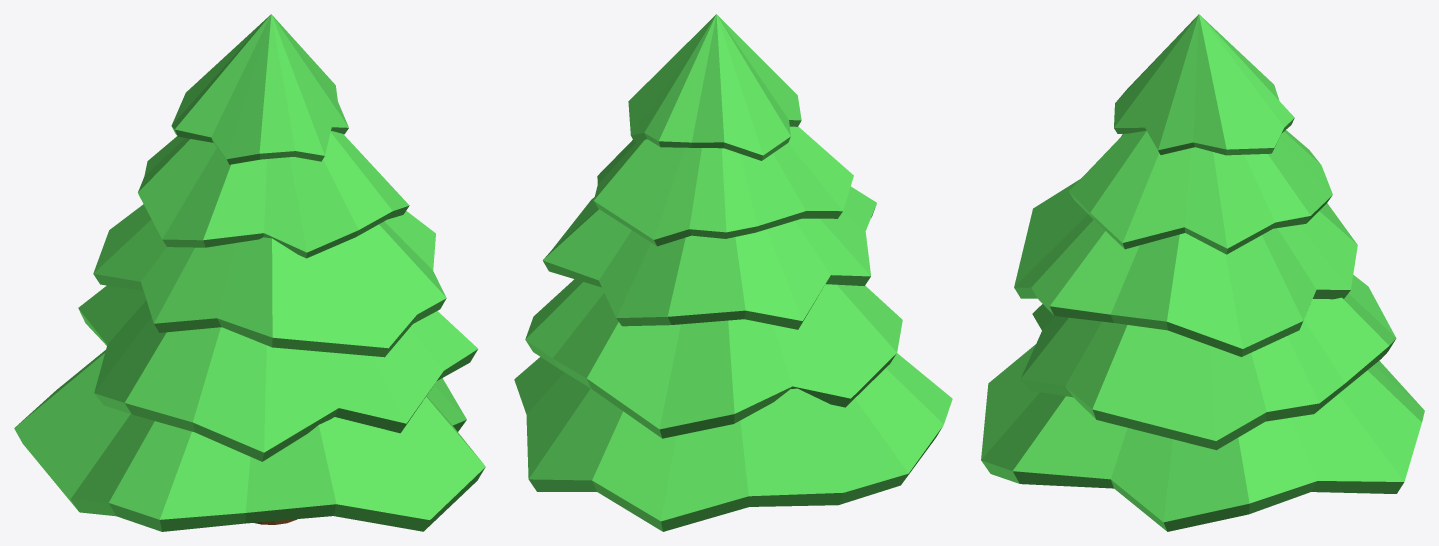
Rendered from Tree 1.fbx.
3 views of the same model, side by side, from view 1: azimuth 30°, elevation 25°; view 2: azimuth 150°, elevation 25°; view 3: azimuth 270°, elevation 25° (orthographic). The views are drawn at different scales.
Visible parts, largest first — view 1: Cone.002; view 2: Cone.002; view 3: Cone.002.
Part boxes in pixels (<box>): Cone.002: <box>14,14,485,531</box>; Cone.002: <box>514,14,952,531</box>; Cone.002: <box>981,14,1424,531</box>.
Bounding box in the file's own units: 1.75 × 2.14 × 1.78.
